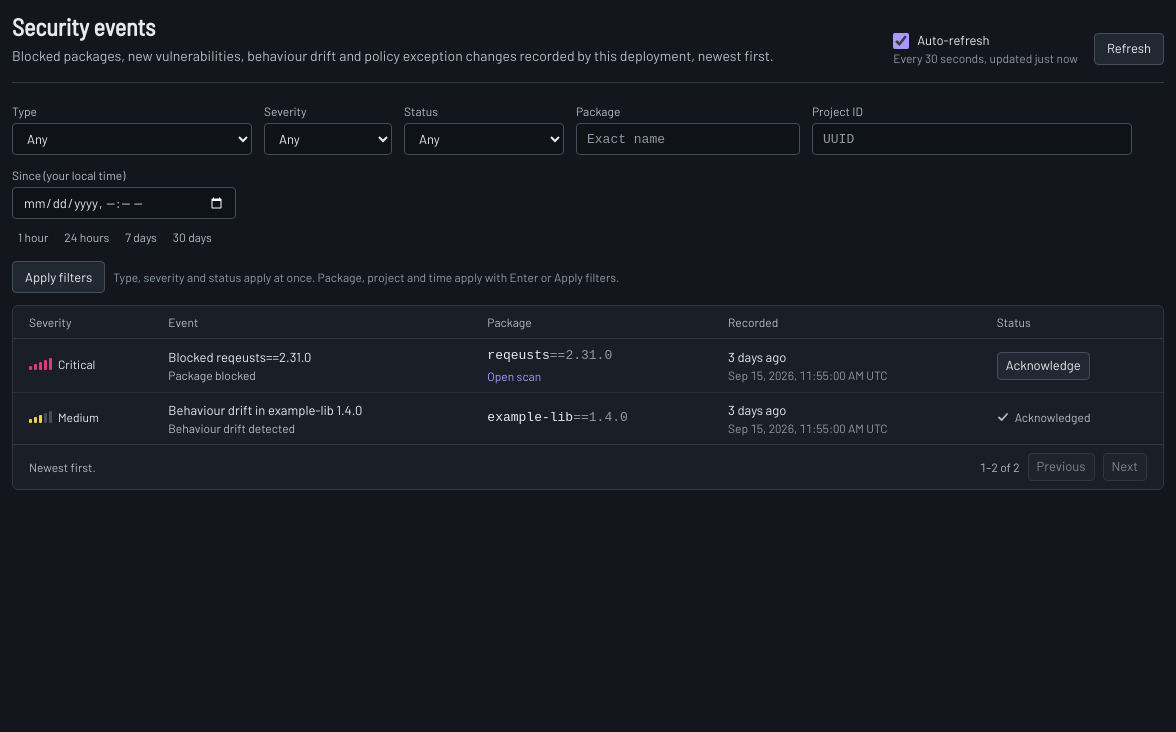
Test: Events › rolls the acknowledgement back and shows the server's reason when it fails
This screenshot has width=1176, height=732.
Click the button named "Acknowledge event Blocked reqeusts". click: x=1043, y=366
box: [997,352,1090,380]
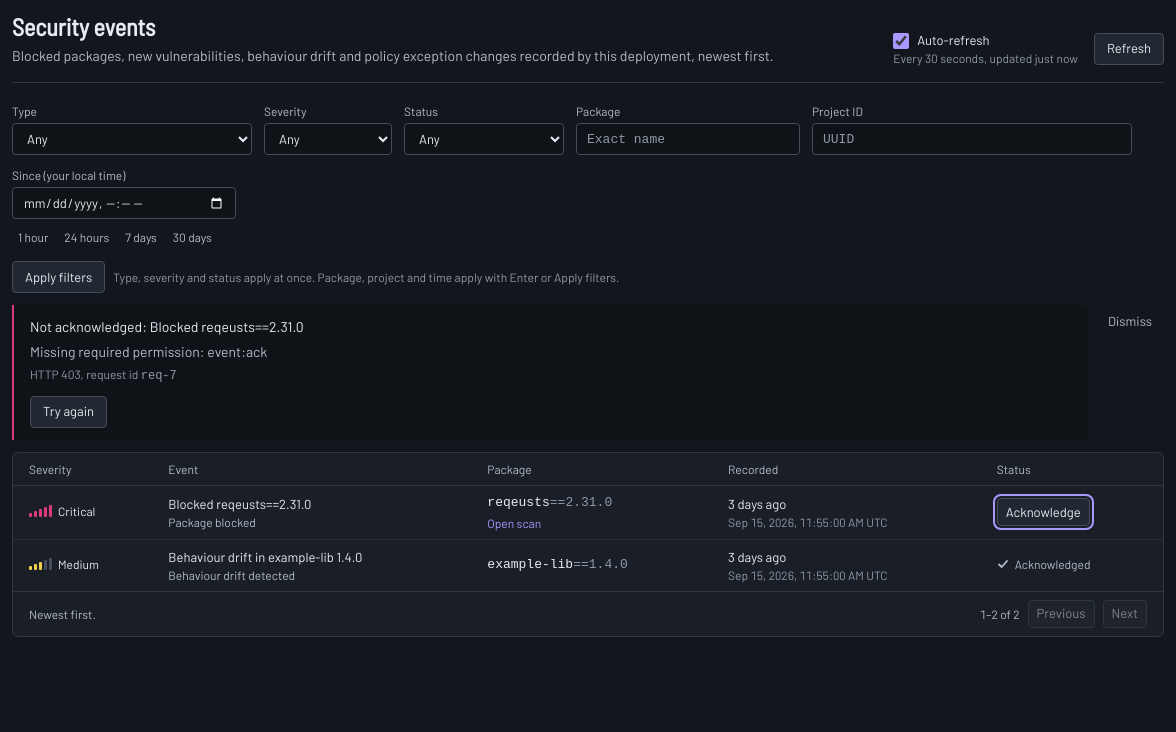
Expected: the message shows "Not acknowledged: Blocked reqeusts==2.31.0", [30,318,304,335]
Expected: the message shows "Missing required permission: event:ack", [30,343,267,360]
Expected: the message shows "req-7", [141,369,177,383]
Click the button "Dismiss". click: x=1130, y=321
box: [1096,305,1164,337]
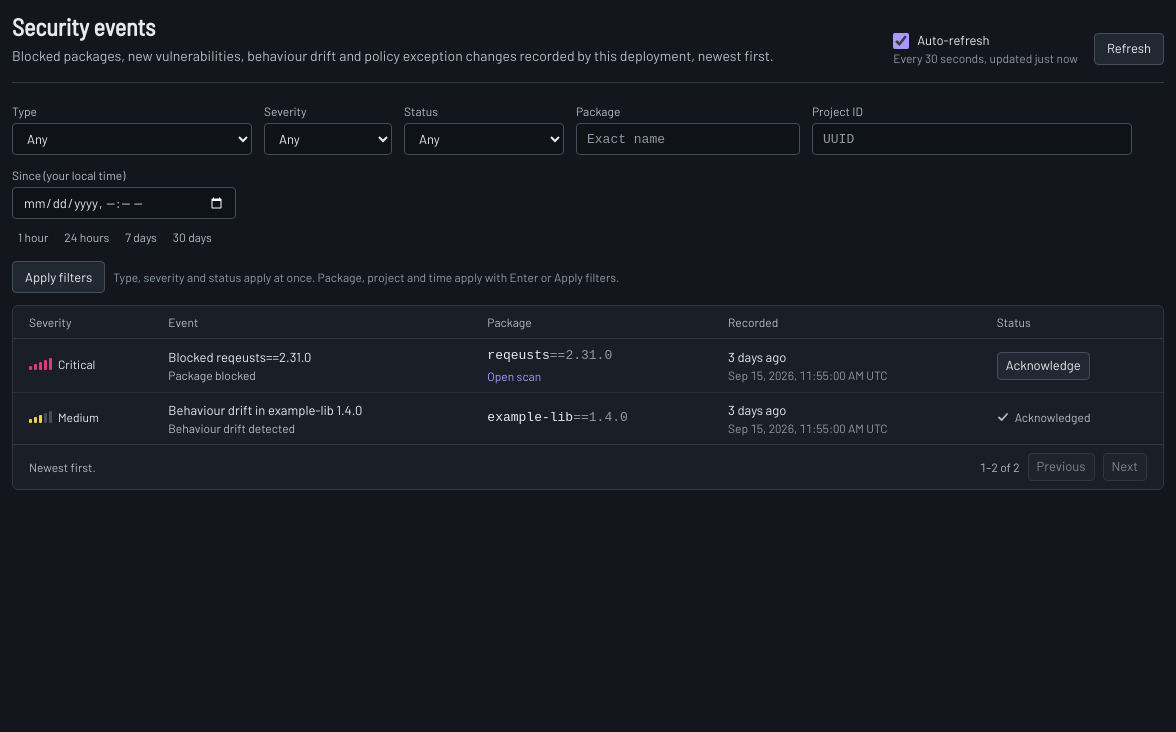
Expected: the message is gone
